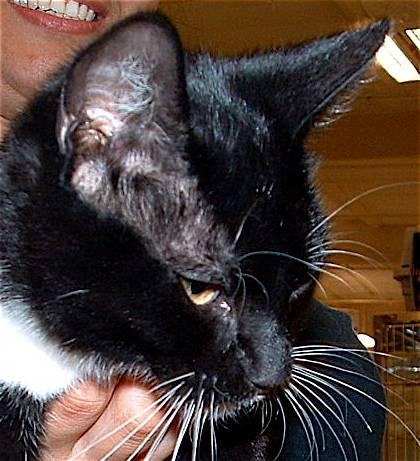cat: (0, 13, 389, 460)
